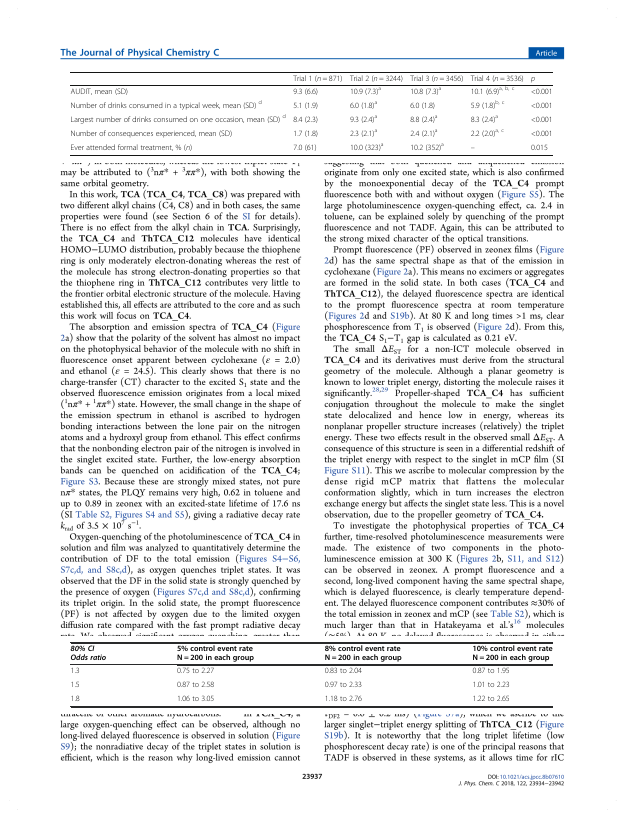borderless: (69, 70, 553, 155), (69, 641, 552, 706)
cell: (70, 113, 287, 125), (70, 99, 263, 111), (70, 129, 233, 139), (472, 645, 553, 663), (176, 645, 255, 663), (324, 645, 403, 663), (70, 143, 193, 153), (70, 645, 107, 662), (70, 87, 129, 97), (470, 85, 515, 97), (349, 74, 404, 83), (409, 74, 464, 83), (470, 74, 525, 83), (292, 74, 343, 83), (409, 141, 445, 153), (470, 99, 505, 111), (470, 127, 505, 139), (349, 141, 384, 153), (349, 85, 382, 97), (409, 85, 442, 97), (349, 99, 378, 111), (349, 113, 378, 125), (409, 113, 438, 125), (470, 113, 499, 125), (349, 127, 378, 139), (409, 127, 438, 139), (176, 668, 215, 675), (324, 668, 363, 675), (472, 668, 511, 675), (176, 682, 215, 689), (324, 682, 363, 689), (472, 682, 511, 689), (176, 696, 215, 703), (324, 696, 363, 703), (472, 696, 511, 703), (292, 87, 319, 97), (292, 101, 319, 111), (409, 101, 436, 111), (292, 115, 319, 125), (292, 129, 319, 139), (292, 143, 317, 153), (530, 87, 553, 97), (530, 101, 553, 111), (530, 115, 553, 125), (530, 129, 553, 139), (530, 143, 549, 153), (70, 668, 80, 675), (70, 682, 80, 689), (70, 696, 80, 703), (530, 76, 536, 83), (470, 147, 476, 151)
